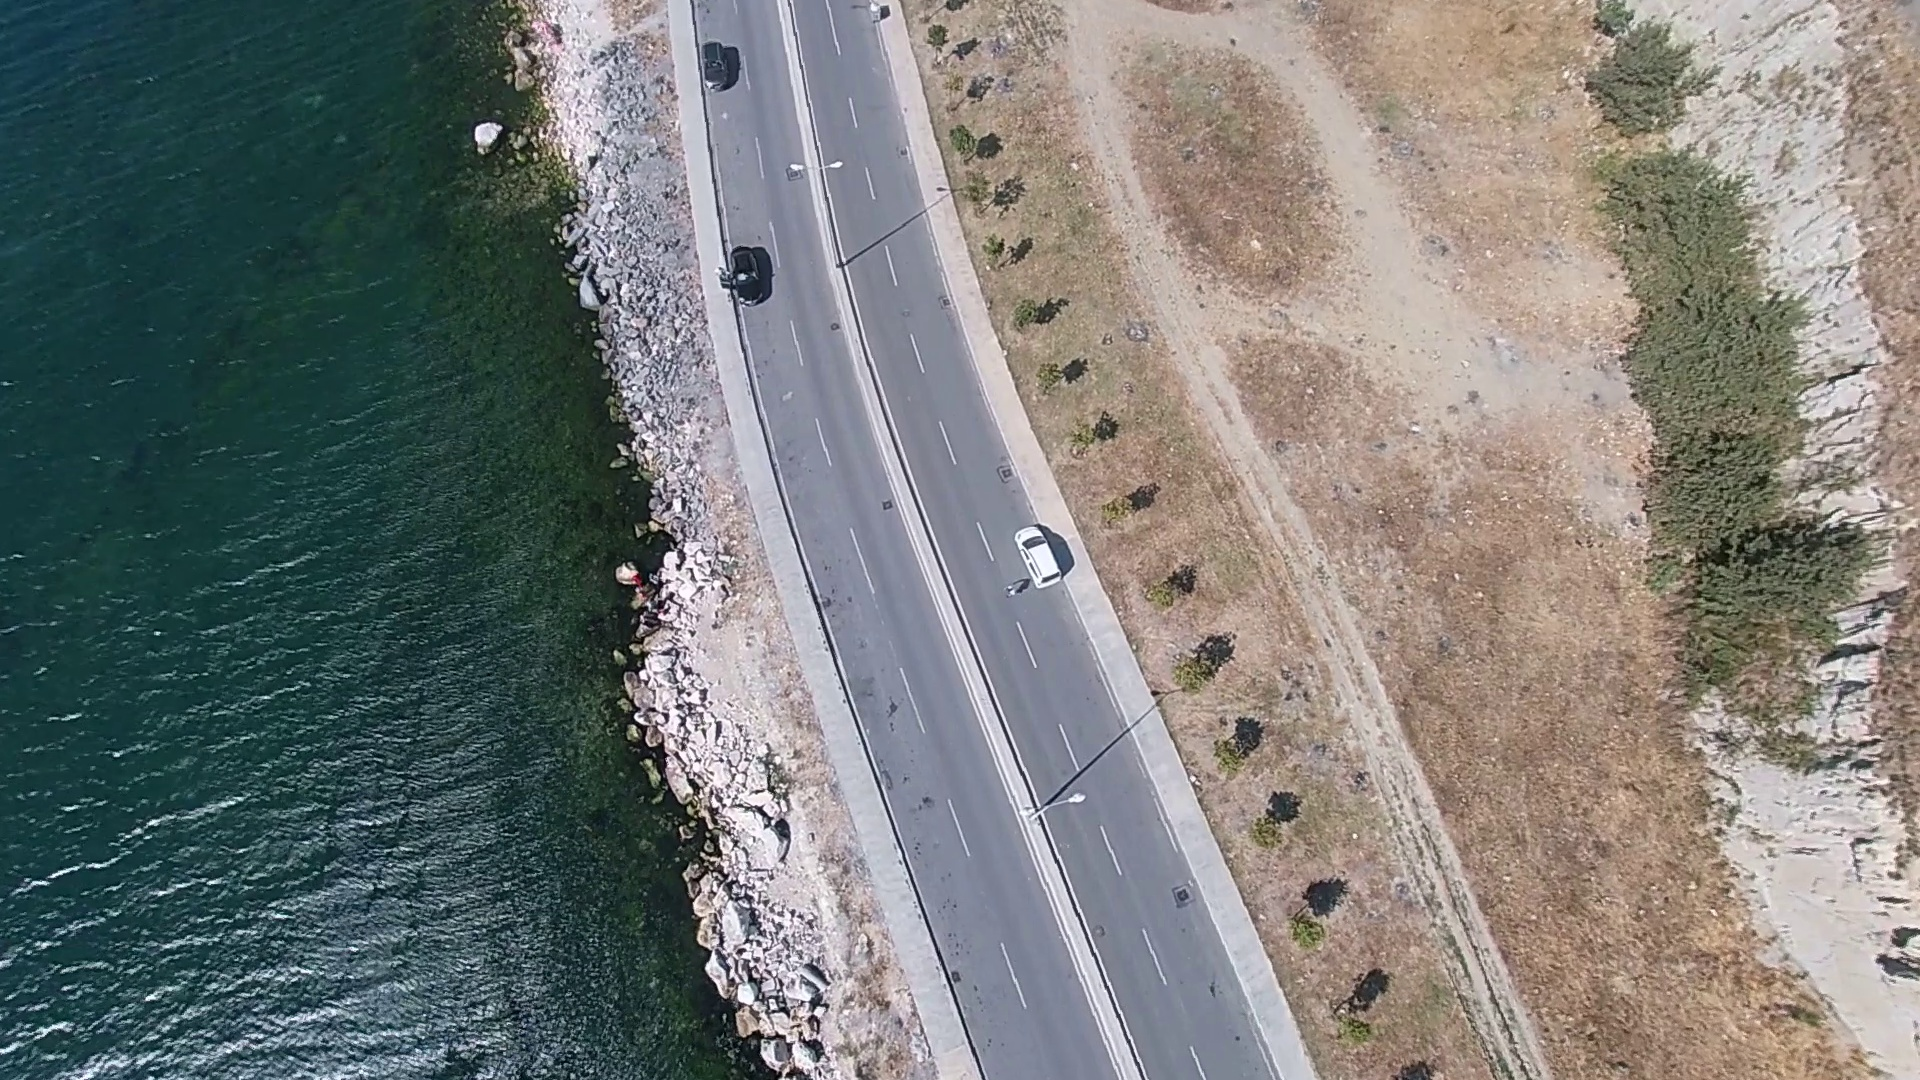arac: (1007, 520, 1071, 592), (732, 236, 766, 302), (702, 46, 732, 94)
